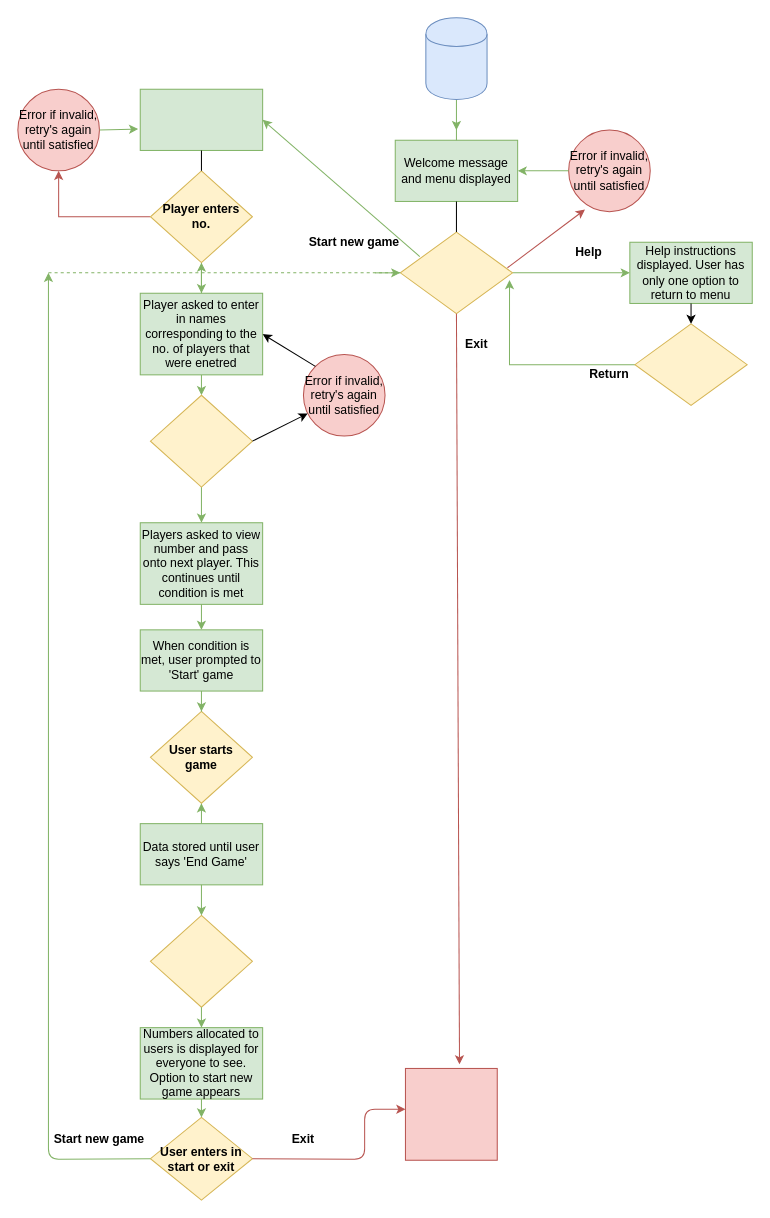
Some shapes in this 770 by 1218 pixel diagram are drawn without their labels. Each missing label, with the centre of its shape:
Exit Application: [450,1113]
Player enters names: [200,440]
Player requested to enter in No. of players: [201,119]
User ends game: [200,960]
User launches App: [456,58]
User returns to menu: [690,364]
User selects option: [456,272]
